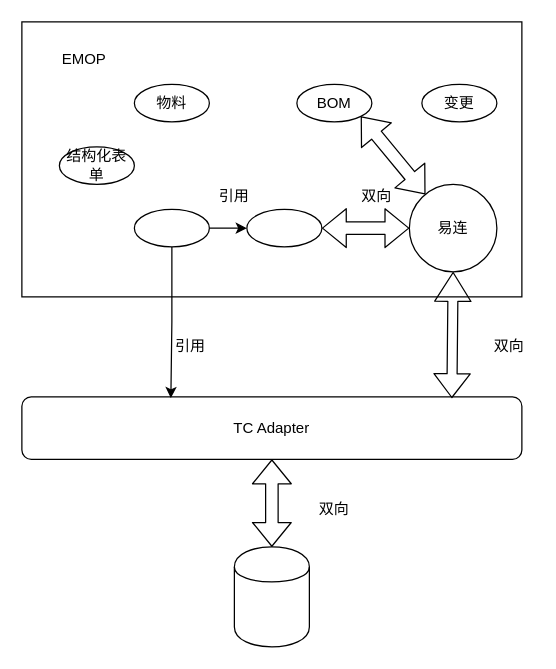
This 556x669 diagram has some shape labels left out. Here are the shapes that lost their labels. From the top down, the box of each, then its label:
(133, 208, 209, 247): 建模中心
(246, 208, 322, 247): 文档
(233, 546, 309, 647): TC
